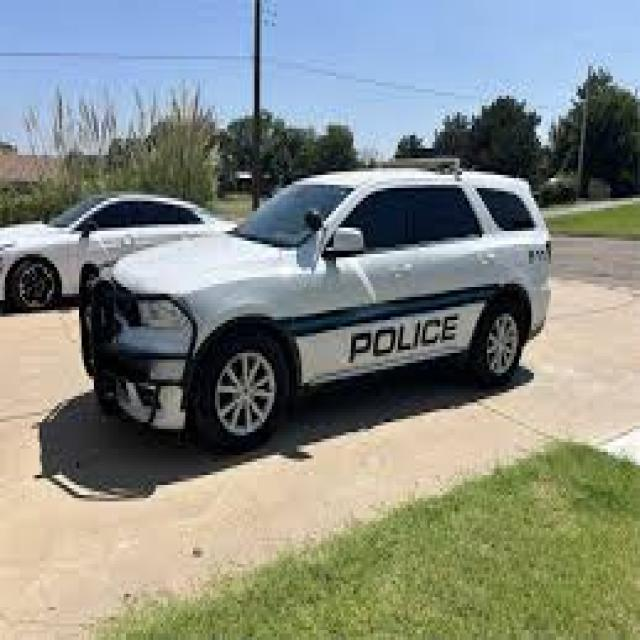cop: (73, 162, 554, 446)
